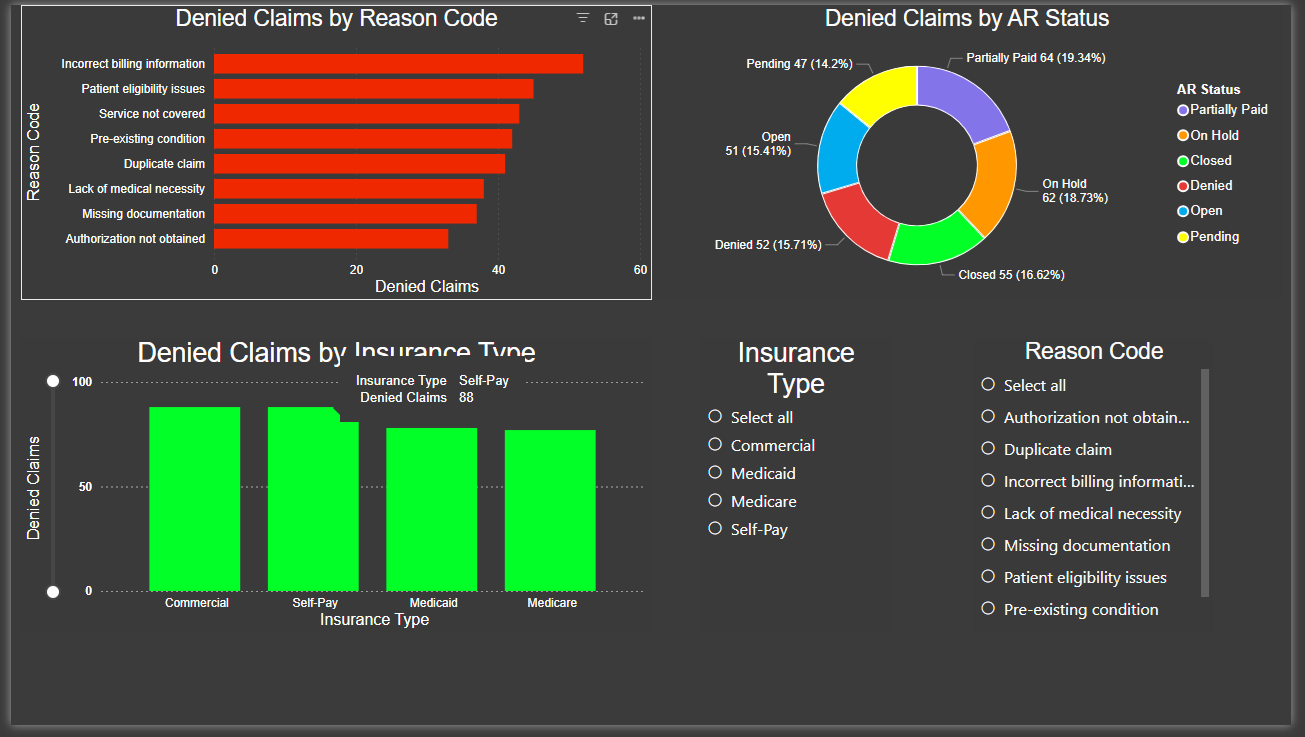

This screenshot's page, from the dashboard's own definition file:
{"tool":"powerbi","page":{"name":"Denial Deep Dive","canvas":[1280,720],"ordinal":1},"visuals":[{"type":"barChart","fields":{"Y":["KPI_Measures.Denied Claims"],"Category":["CLaims Data.Reason Code"]},"box":[10.4,0,630.2,295.4],"z":0},{"type":"clusteredColumnChart","fields":{"Category":["CLaims Data.Insurance Type"],"Y":["KPI_Measures.Denied Claims"]},"box":[10.4,332.7,630.2,295.4],"z":1},{"type":"donutChart","fields":{"Category":["CLaims Data.AR Status"],"Y":["KPI_Measures.Denied Claims"]},"box":[640.5,0,630.2,295.4],"z":2},{"type":"listSlicer","fields":{"Values":["CLaims Data.Insurance Type"]},"box":[690.3,332.7,189.7,295.4],"z":3},{"type":"listSlicer","fields":{"Values":["CLaims Data.Reason Code"]},"box":[962.9,332.7,240.5,295.4],"z":4}]}

Visuals, with their boxes in screenshot pixels (x1, y1, x2, y2), scaled from the page's 1280x720 canvas onto the 1305x737 screenshot:
barChart - KPI_Measures.Denied Claims x CLaims Data.Reason Code: box(11, 0, 653, 302)
clusteredColumnChart - CLaims Data.Insurance Type x KPI_Measures.Denied Claims: box(11, 341, 653, 643)
donutChart - CLaims Data.AR Status x KPI_Measures.Denied Claims: box(653, 0, 1296, 302)
listSlicer - CLaims Data.Insurance Type: box(704, 341, 897, 643)
listSlicer - CLaims Data.Reason Code: box(982, 341, 1227, 643)
